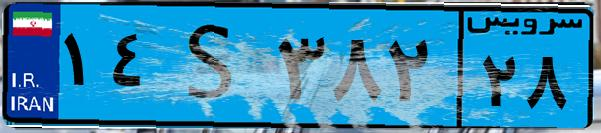1: (57, 26, 110, 100)
2: (385, 28, 445, 110), (475, 38, 525, 113)
3: (270, 28, 330, 110)
4: (110, 28, 158, 98)
8: (330, 28, 385, 110), (525, 38, 570, 115)
S: (158, 12, 270, 120)
